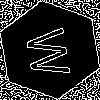W: (25, 25, 81, 80)
